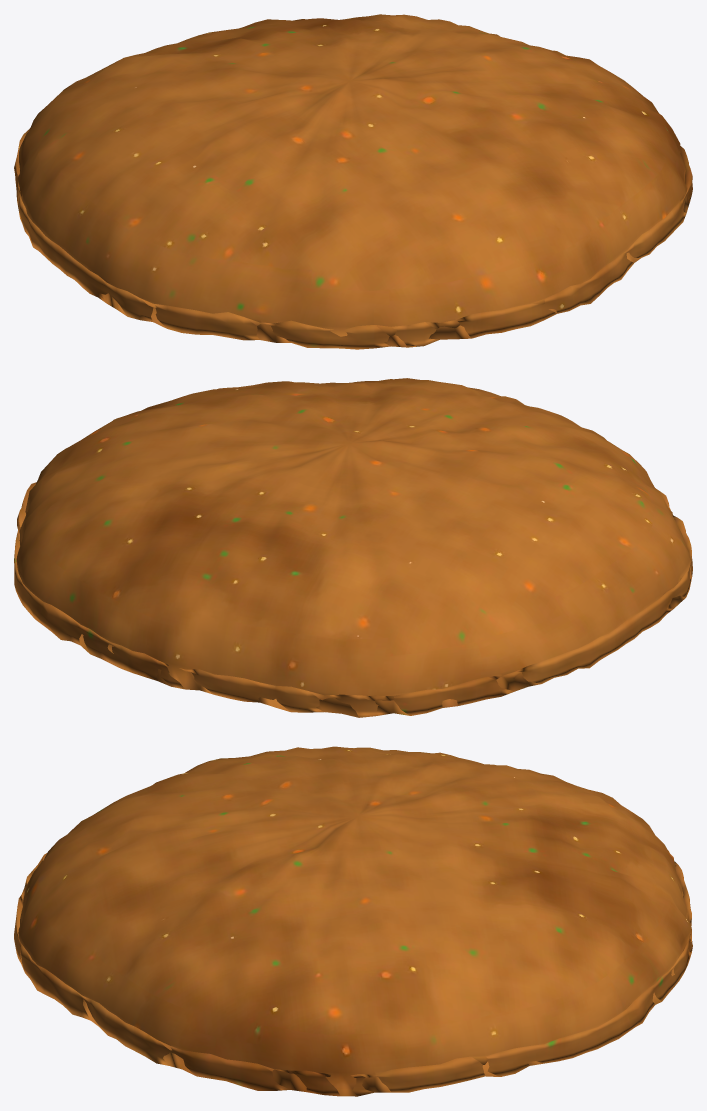
Rendered from filling_veggies.glb.
3 renders of one model, top to bottom at view 1: azimuth 30°, elevation 25°; view 2: azimuth 150°, elevation 25°; view 3: azimuth 270°, elevation 25°, orthographic. The views are drawn at different scales.
Visible parts, largest first — view 1: EX_Filling_veggies; view 2: EX_Filling_veggies; view 3: EX_Filling_veggies.
Part boxes in pixels (x1,y1,x2,y2): EX_Filling_veggies: (14, 14, 692, 349); EX_Filling_veggies: (14, 378, 692, 717); EX_Filling_veggies: (14, 746, 692, 1096).
Bounding box in the file's own units: 0.0844 × 0.0179 × 0.0824.
1 material, 1 textured.
